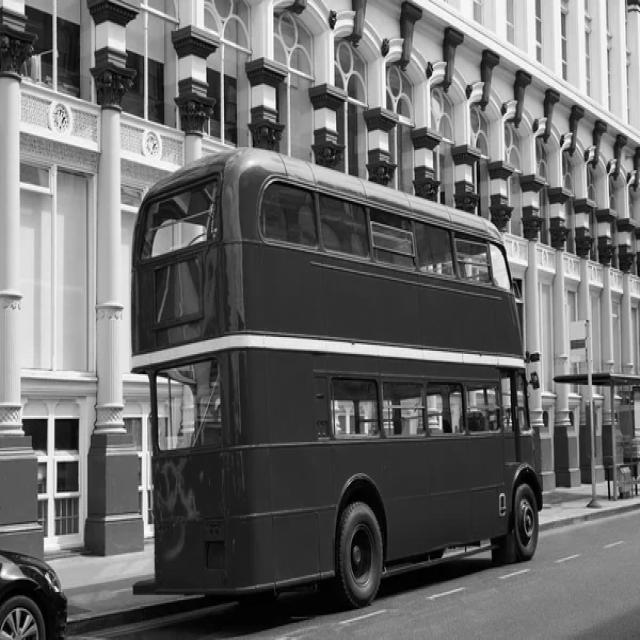Bus: (131, 148, 543, 608)
